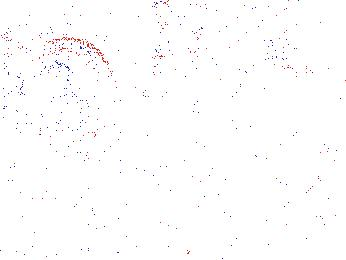moon jellyfish: (22, 38, 117, 144), (174, 120, 260, 205), (215, 4, 295, 89), (141, 1, 226, 59), (301, 61, 346, 124), (1, 36, 32, 92)
